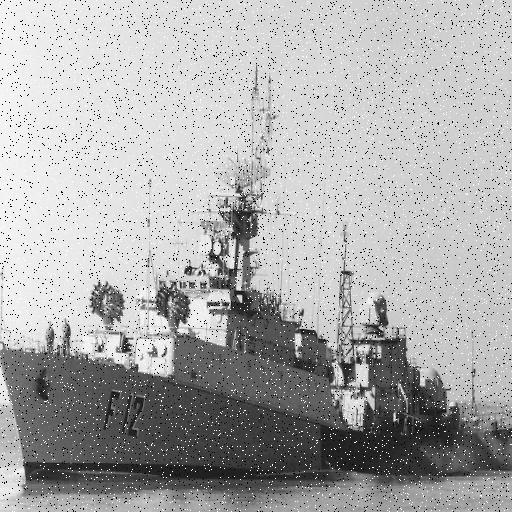Fragata: (1, 56, 512, 494)
